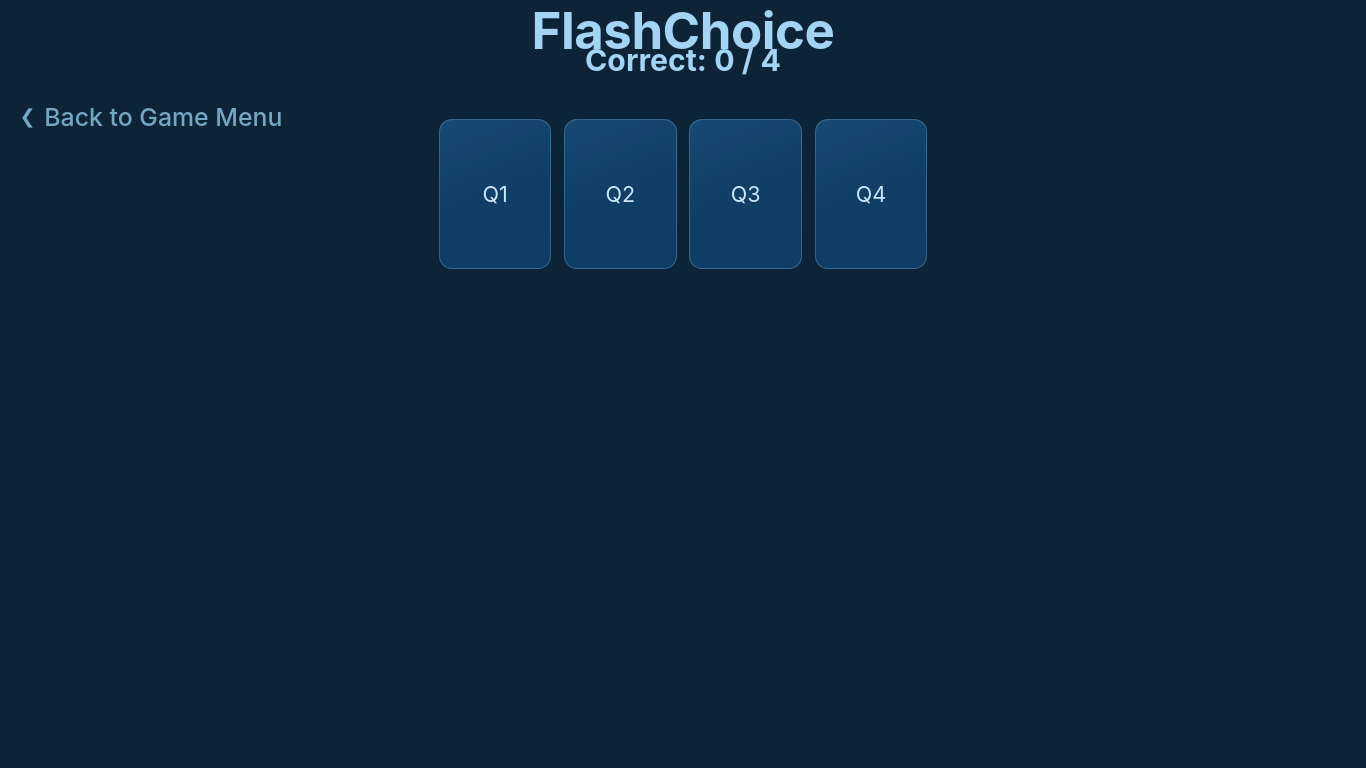
Test case: FlashChoice › clicking a card opens the options overlay; the grid stays mounted behind it
Click the text "Q2".
click(620, 194)  # box [606,181,635,207]
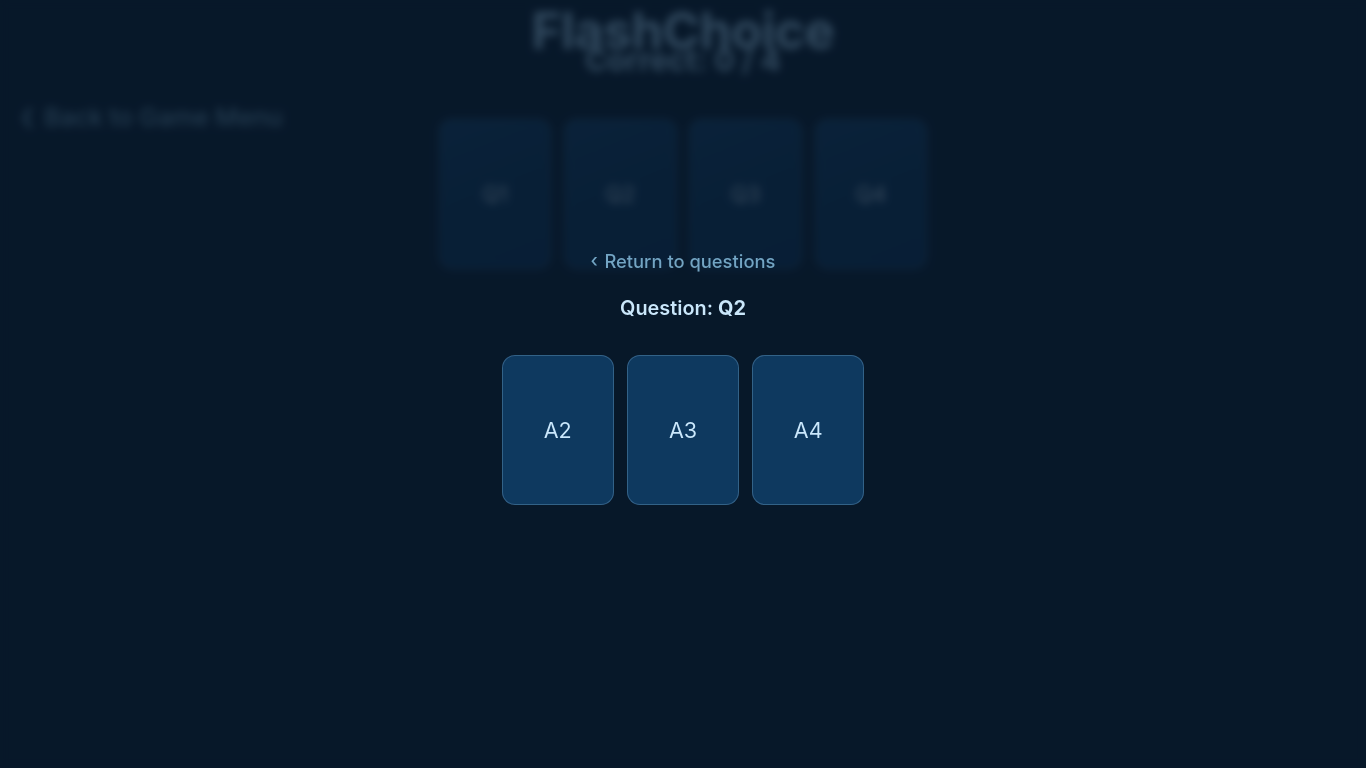
Expected: the element with class "flashcard-grid" is shown, [0,111,1365,278]
Expected: the element with class "choice-overlay-q" shows "Q2", [718,296,746,320]
Expected: the button "Return to questions" is shown, [591,250,775,272]
